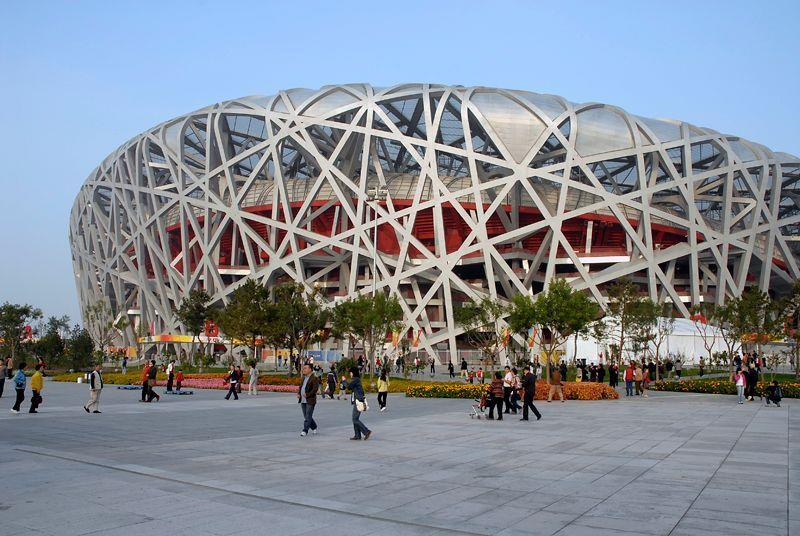National_Stadium: (66, 90, 796, 375)
